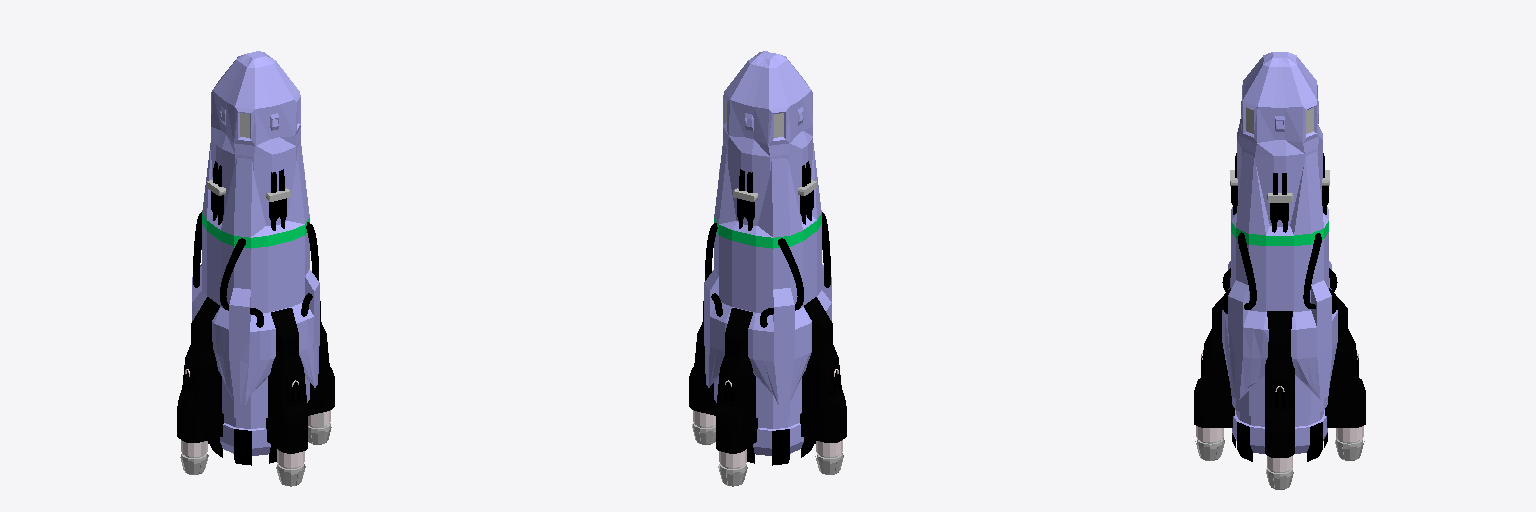
File: SavitirII_gr.obj
3 renders of one model, left to right at view 1: azimuth 30°, elevation 25°; view 2: azimuth 150°, elevation 25°; view 3: azimuth 270°, elevation 25°, orthographic.
Visible parts, largest first — view 1: Body_Cylinder.005, ThrusterPipe_Cube, ThrusterPipe2_Cube.002, CockpitPipes_Cylinder.011, CockpitPipes2_Cylinder.012, Obj_TT_tube.005_TT_tube.004; view 2: Body_Cylinder.005, ThrusterPipe_Cube, ThrusterPipe2_Cube.002, CockpitPipes_Cylinder.011, CockpitPipes2_Cylinder.012, Obj_TT_tube.004_TT_tube.003; view 3: Body_Cylinder.005, ThrusterPipe2_Cube.002, ThrusterPipe_Cube, CockpitPipes2_Cylinder.012, CockpitPipes_Cylinder.011, Obj_TT_tube.003_TT_tube.002, Obj_TT_tube_TT_tube.
Boxes of the visible parts, <box> form: Body_Cylinder.005: <box>192,51,319,465</box>; ThrusterPipe_Cube: <box>177,297,334,474</box>; ThrusterPipe2_Cube.002: <box>266,308,307,486</box>; CockpitPipes_Cylinder.011: <box>266,169,290,230</box>; CockpitPipes2_Cylinder.012: <box>207,161,304,224</box>; Obj_TT_tube.005_TT_tube.004: <box>220,238,245,310</box>; Body_Cylinder.005: <box>704,51,831,465</box>; ThrusterPipe_Cube: <box>689,297,846,474</box>; ThrusterPipe2_Cube.002: <box>716,308,757,486</box>; CockpitPipes_Cylinder.011: <box>733,169,757,230</box>; CockpitPipes2_Cylinder.012: <box>719,161,816,224</box>; Obj_TT_tube.004_TT_tube.003: <box>778,238,803,310</box>; Body_Cylinder.005: <box>1222,52,1337,461</box>; ThrusterPipe2_Cube.002: <box>1194,288,1365,460</box>; ThrusterPipe_Cube: <box>1265,311,1294,489</box>; CockpitPipes2_Cylinder.012: <box>1267,173,1292,232</box>; CockpitPipes_Cylinder.011: <box>1230,153,1329,214</box>; Obj_TT_tube.003_TT_tube.002: <box>1238,232,1256,309</box>; Obj_TT_tube_TT_tube: <box>1303,233,1321,308</box>.
Bounding box in the file's own units: 22.22 × 56.79 × 21.96.